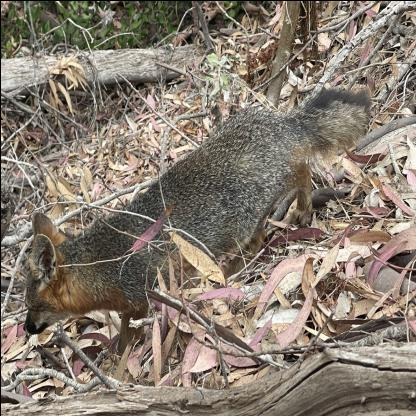zorro: (15, 83, 380, 355)
